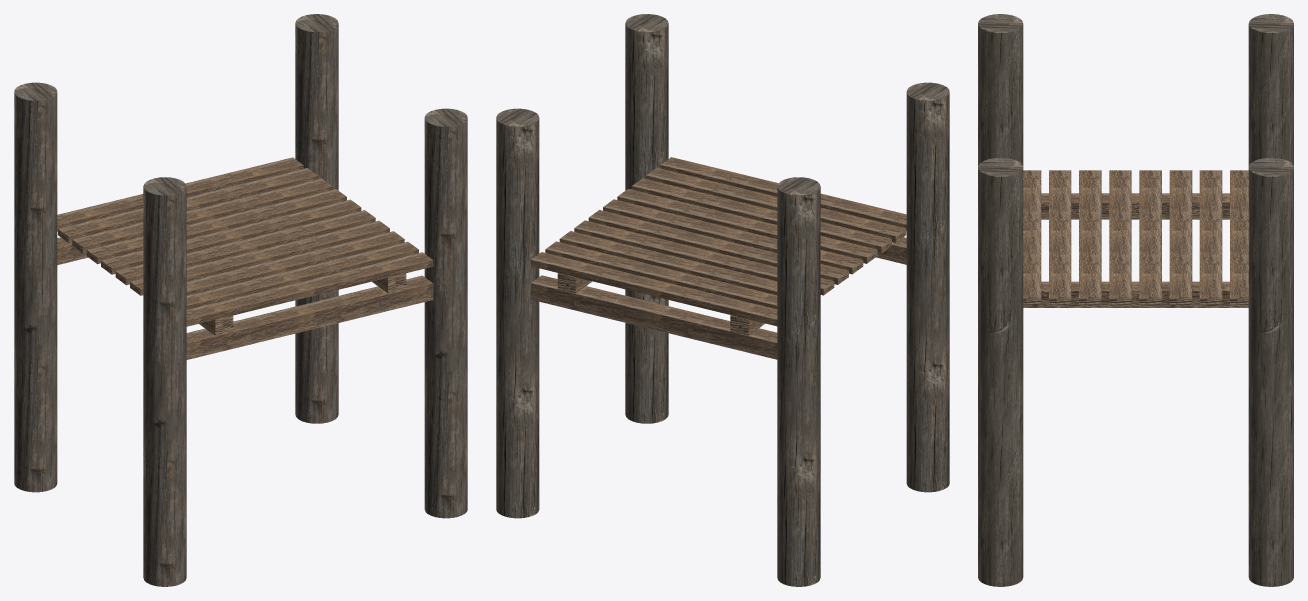
Rendered from Muelle_plataforma.fbx.
3 renders of one model, left to right at view 1: azimuth 30°, elevation 25°; view 2: azimuth 150°, elevation 25°; view 3: azimuth 270°, elevation 25°, orthographic. The views are drawn at different scales.
Visible parts, largest first — view 1: plataforma madera, pilar en forma de H, pilar con madera, pilar solo; view 2: pilar en forma de H, plataforma madera, pilar solo, pilar con madera; view 3: plataforma madera, pilar en forma de H, pilar con madera, pilar solo.
Part boxes in pixels (x1=…): plataforma madera: x1=57, y1=157, x2=433, y2=335; pilar en forma de H: x1=14, y1=14, x2=338, y2=492; pilar con madera: x1=186, y1=108, x2=467, y2=518; pilar solo: x1=143, y1=177, x2=186, y2=586; pilar en forma de H: x1=496, y1=108, x2=820, y2=586; plataforma madera: x1=531, y1=157, x2=906, y2=335; pilar solo: x1=906, y1=82, x2=949, y2=492; pilar con madera: x1=625, y1=14, x2=906, y2=423; plataforma madera: x1=1023, y1=170, x2=1248, y2=307; pilar en forma de H: x1=1248, y1=14, x2=1293, y2=586; pilar con madera: x1=978, y1=157, x2=1023, y2=586; pilar solo: x1=978, y1=14, x2=1023, y2=166.
Size of the model in its own units: 511 by 600 by 419.
2 materials, 2 textured.
